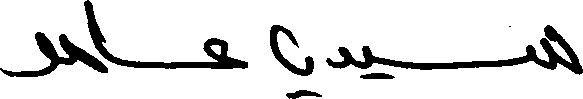ا: (81, 0, 107, 55)
د: (327, 45, 352, 69)
ر: (0, 30, 59, 77)
س: (525, 22, 581, 75)
ع: (202, 36, 246, 69)
م: (60, 31, 106, 75)
ي: (268, 22, 312, 97), (361, 44, 395, 83)
